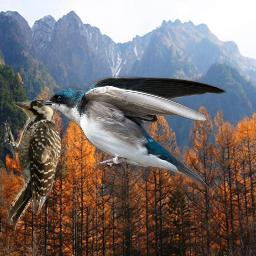Swallow: (41, 74, 228, 189)
Woodpecker: (1, 96, 62, 233)
